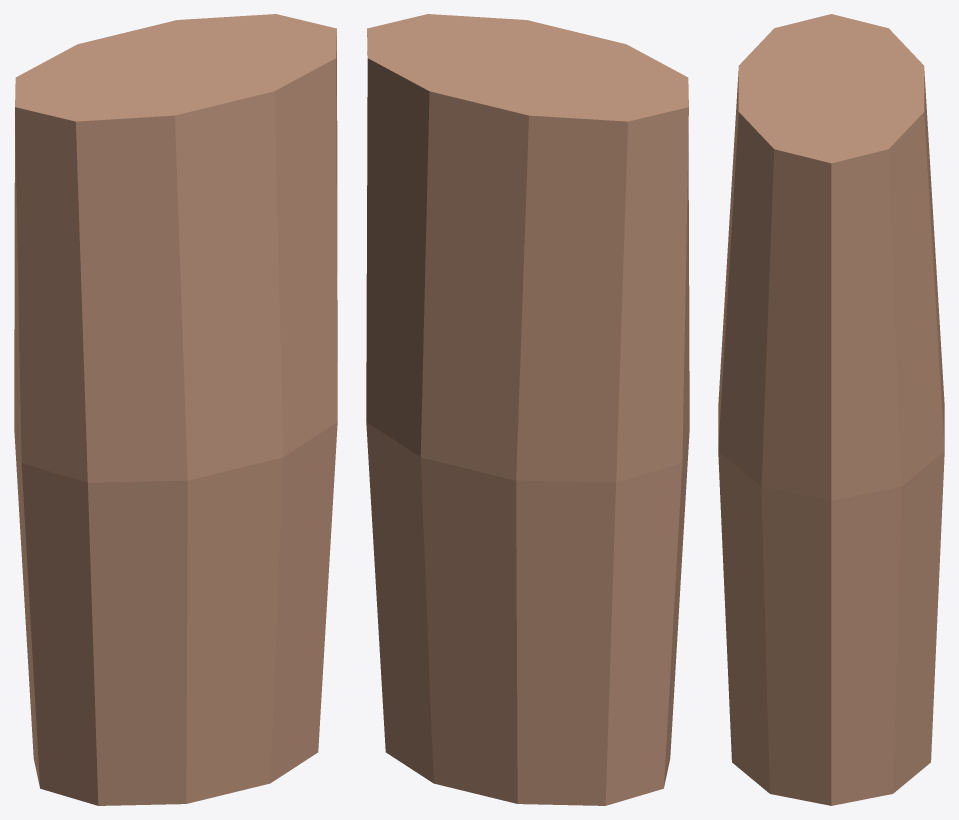
File: wk_buck_heavy_pelvis_v01.glb
The picture shows the model from 3 angles, left to right: view 1: azimuth 30°, elevation 25°; view 2: azimuth 150°, elevation 25°; view 3: azimuth 270°, elevation 25°; orthographic projection. The views are drawn at different scales.
Parts seen in each view (by area): view 1: GEO_Pelvis.002; view 2: GEO_Pelvis.002; view 3: GEO_Pelvis.002.
Boxes of the visible parts, <box> form: GEO_Pelvis.002: <box>14,14,337,805</box>; GEO_Pelvis.002: <box>366,14,689,805</box>; GEO_Pelvis.002: <box>718,14,944,805</box>.
Size of the model in its own units: 0.49 by 1 by 0.3138.
